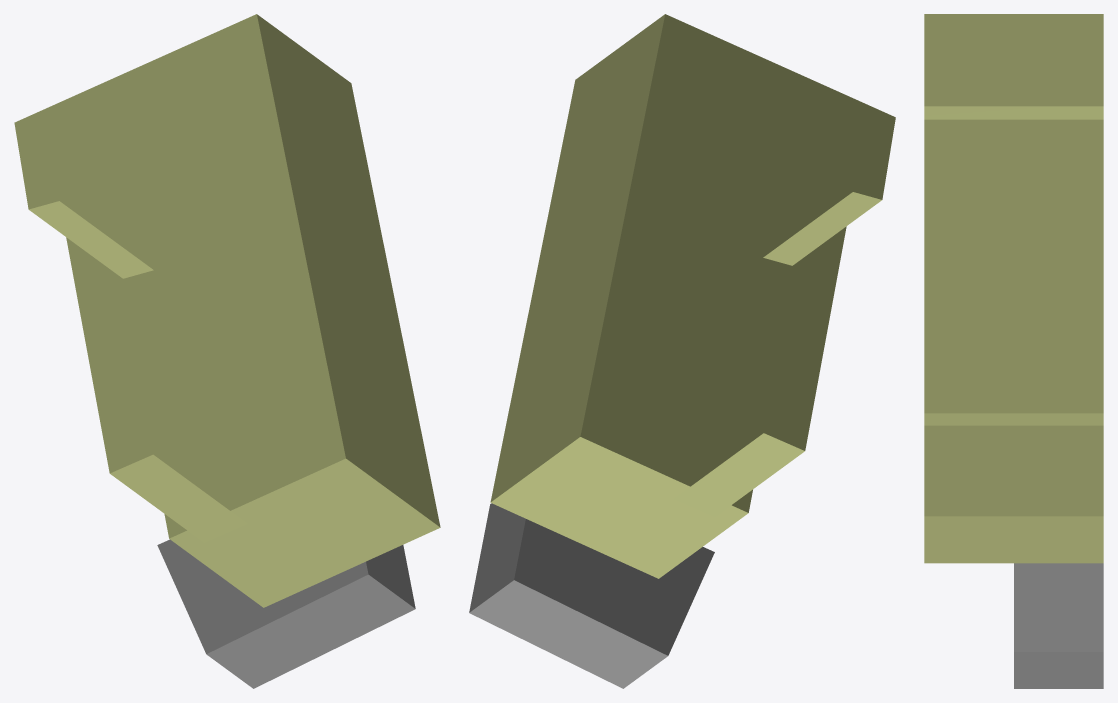
3 renders of one model, left to right at view 1: azimuth 30°, elevation 25°; view 2: azimuth 150°, elevation 25°; view 3: azimuth 270°, elevation 25°, orthographic. The views are drawn at different scales.
Visible parts, largest first — view 1: 0_1_0_2_0_0_2_0_1_3; view 2: 0_1_0_2_0_0_2_0_1_3; view 3: 0_1_0_2_0_0_2_0_1_3.
Part boxes in pixels (bbox=[...]): 0_1_0_2_0_0_2_0_1_3: bbox=[14, 14, 440, 688]; 0_1_0_2_0_0_2_0_1_3: bbox=[469, 14, 895, 688]; 0_1_0_2_0_0_2_0_1_3: bbox=[924, 14, 1103, 688].
Bounding box in the file's own units: 12.97 × 21.98 × 6.
